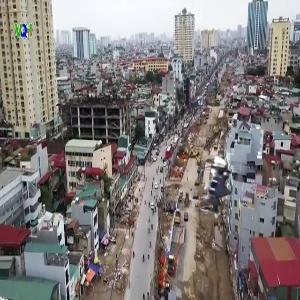drone: (178, 152, 255, 229)
